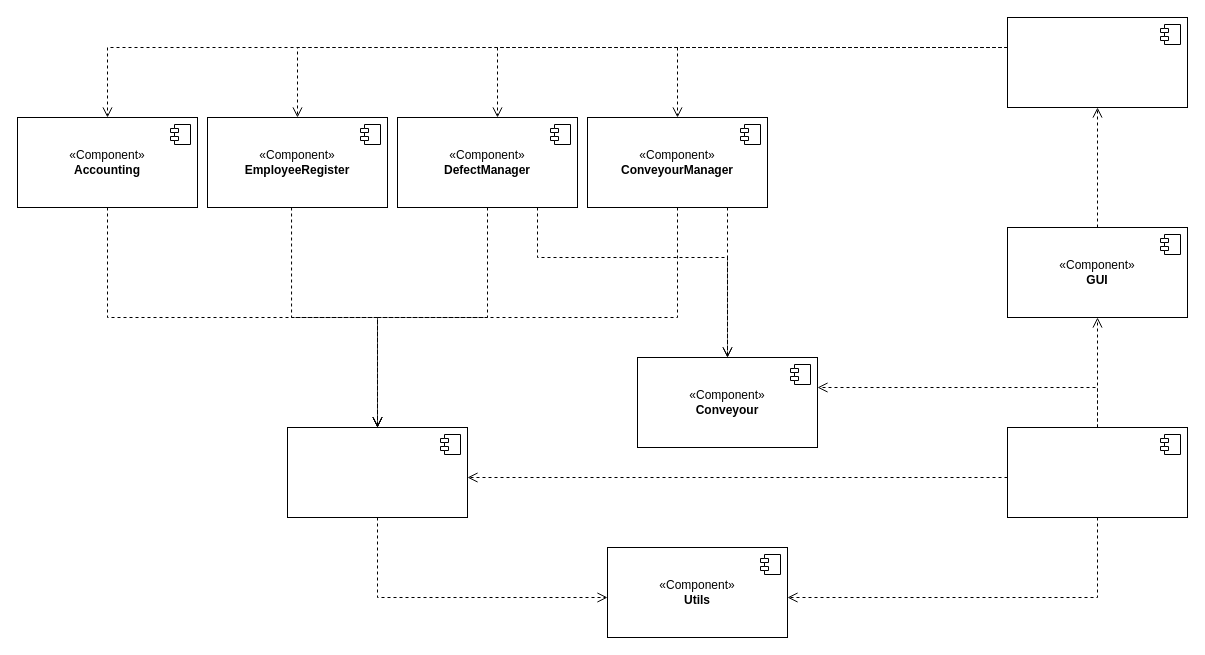
Image size: 1205x655. Some labels were removed from this diagram. The shapes that lost their labels are listed below. From the top down, each one's centre as x and y in pixels, then its label:
At [1097,62]: "«Component» Controller".
At [377,472]: "«Component» Repository".
At [1097,472]: "«Component» ViewManager".
